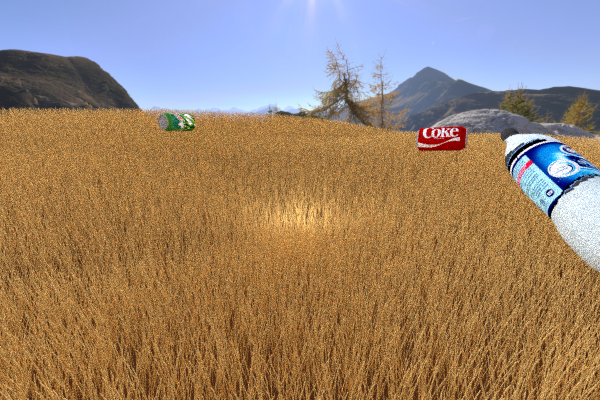Plastic Bottle: (500, 127, 600, 288), (416, 126, 468, 150), (157, 112, 195, 131)
